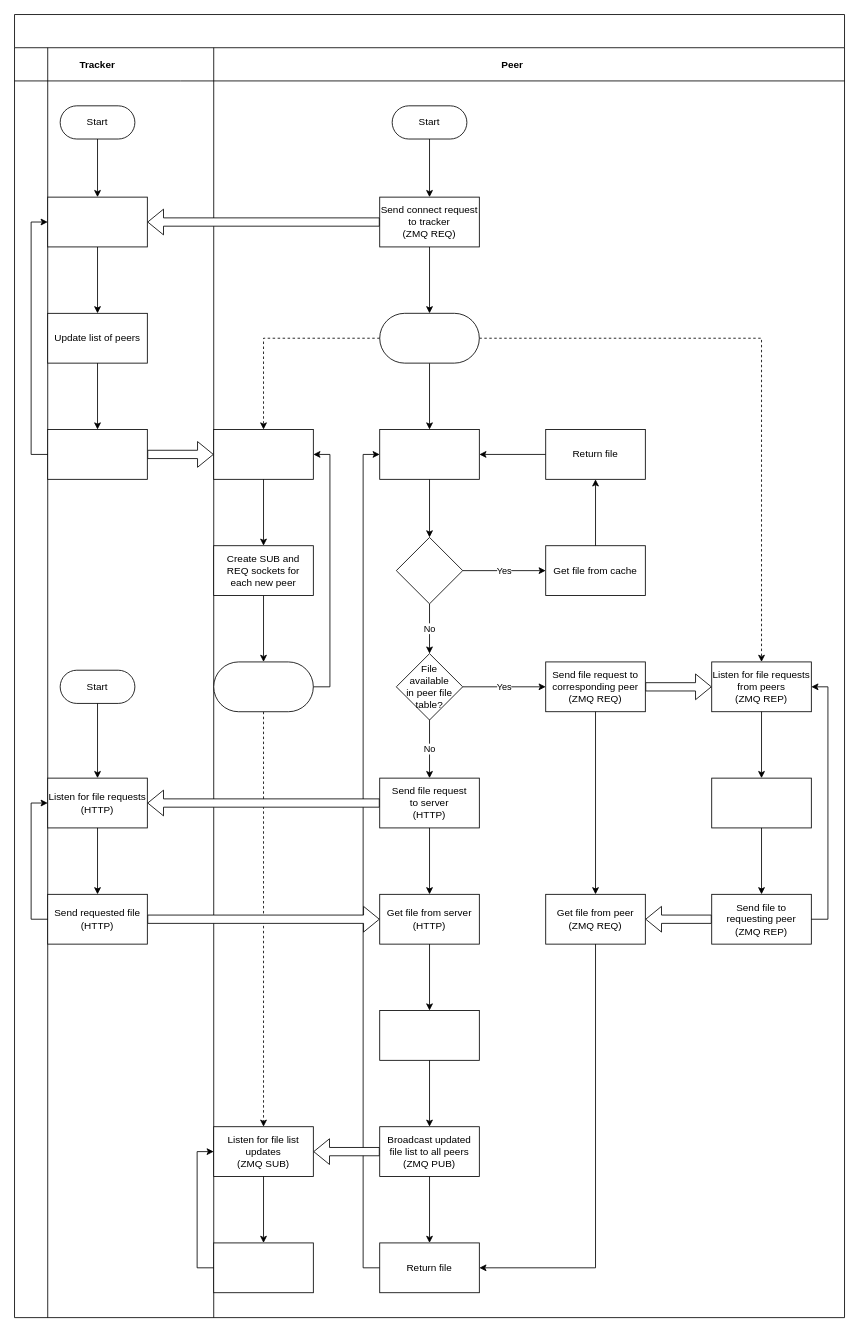
This 859x1332 diagram has some shape labels left out. The centre of each missing label's shape, as x and y in pixels:
"Broadcast updated list to all peers (ZMQ PUB)" belongs at point 97,454.
"File available in cache?" belongs at point 429,570.
"Get file from local cache" belongs at point 761,802.
"Listen for peer list updates (ZMQ SUB)" belongs at point 263,454.
"Listen for peer updates (ZMQ REP)" belongs at point 97,221.
"Start a thread for each new peer" belongs at point 263,686.
"Start new threads" belongs at point 429,337.
"Store file in local cache" belongs at point 429,1035.
"Update local peer file table" belongs at point 263,1267.
"Wait for `get file` request" belongs at point 429,454.
